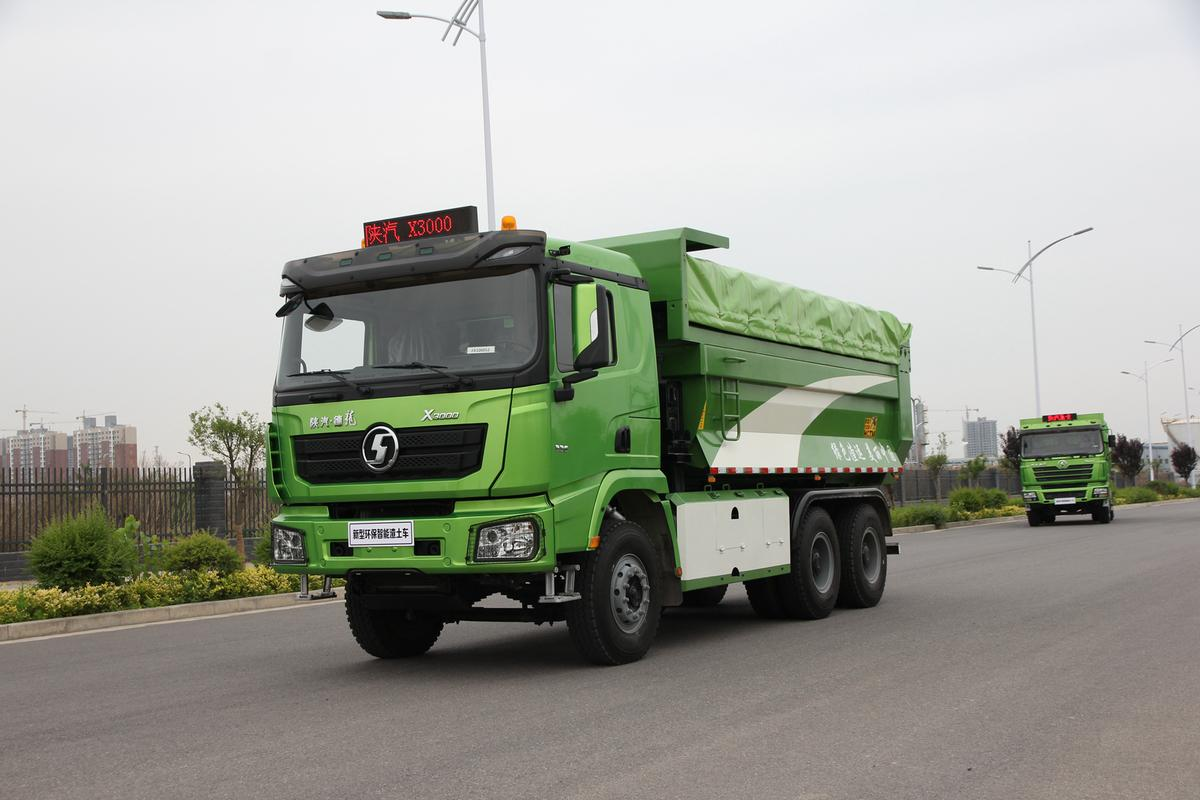truck: (254, 190, 921, 676)
